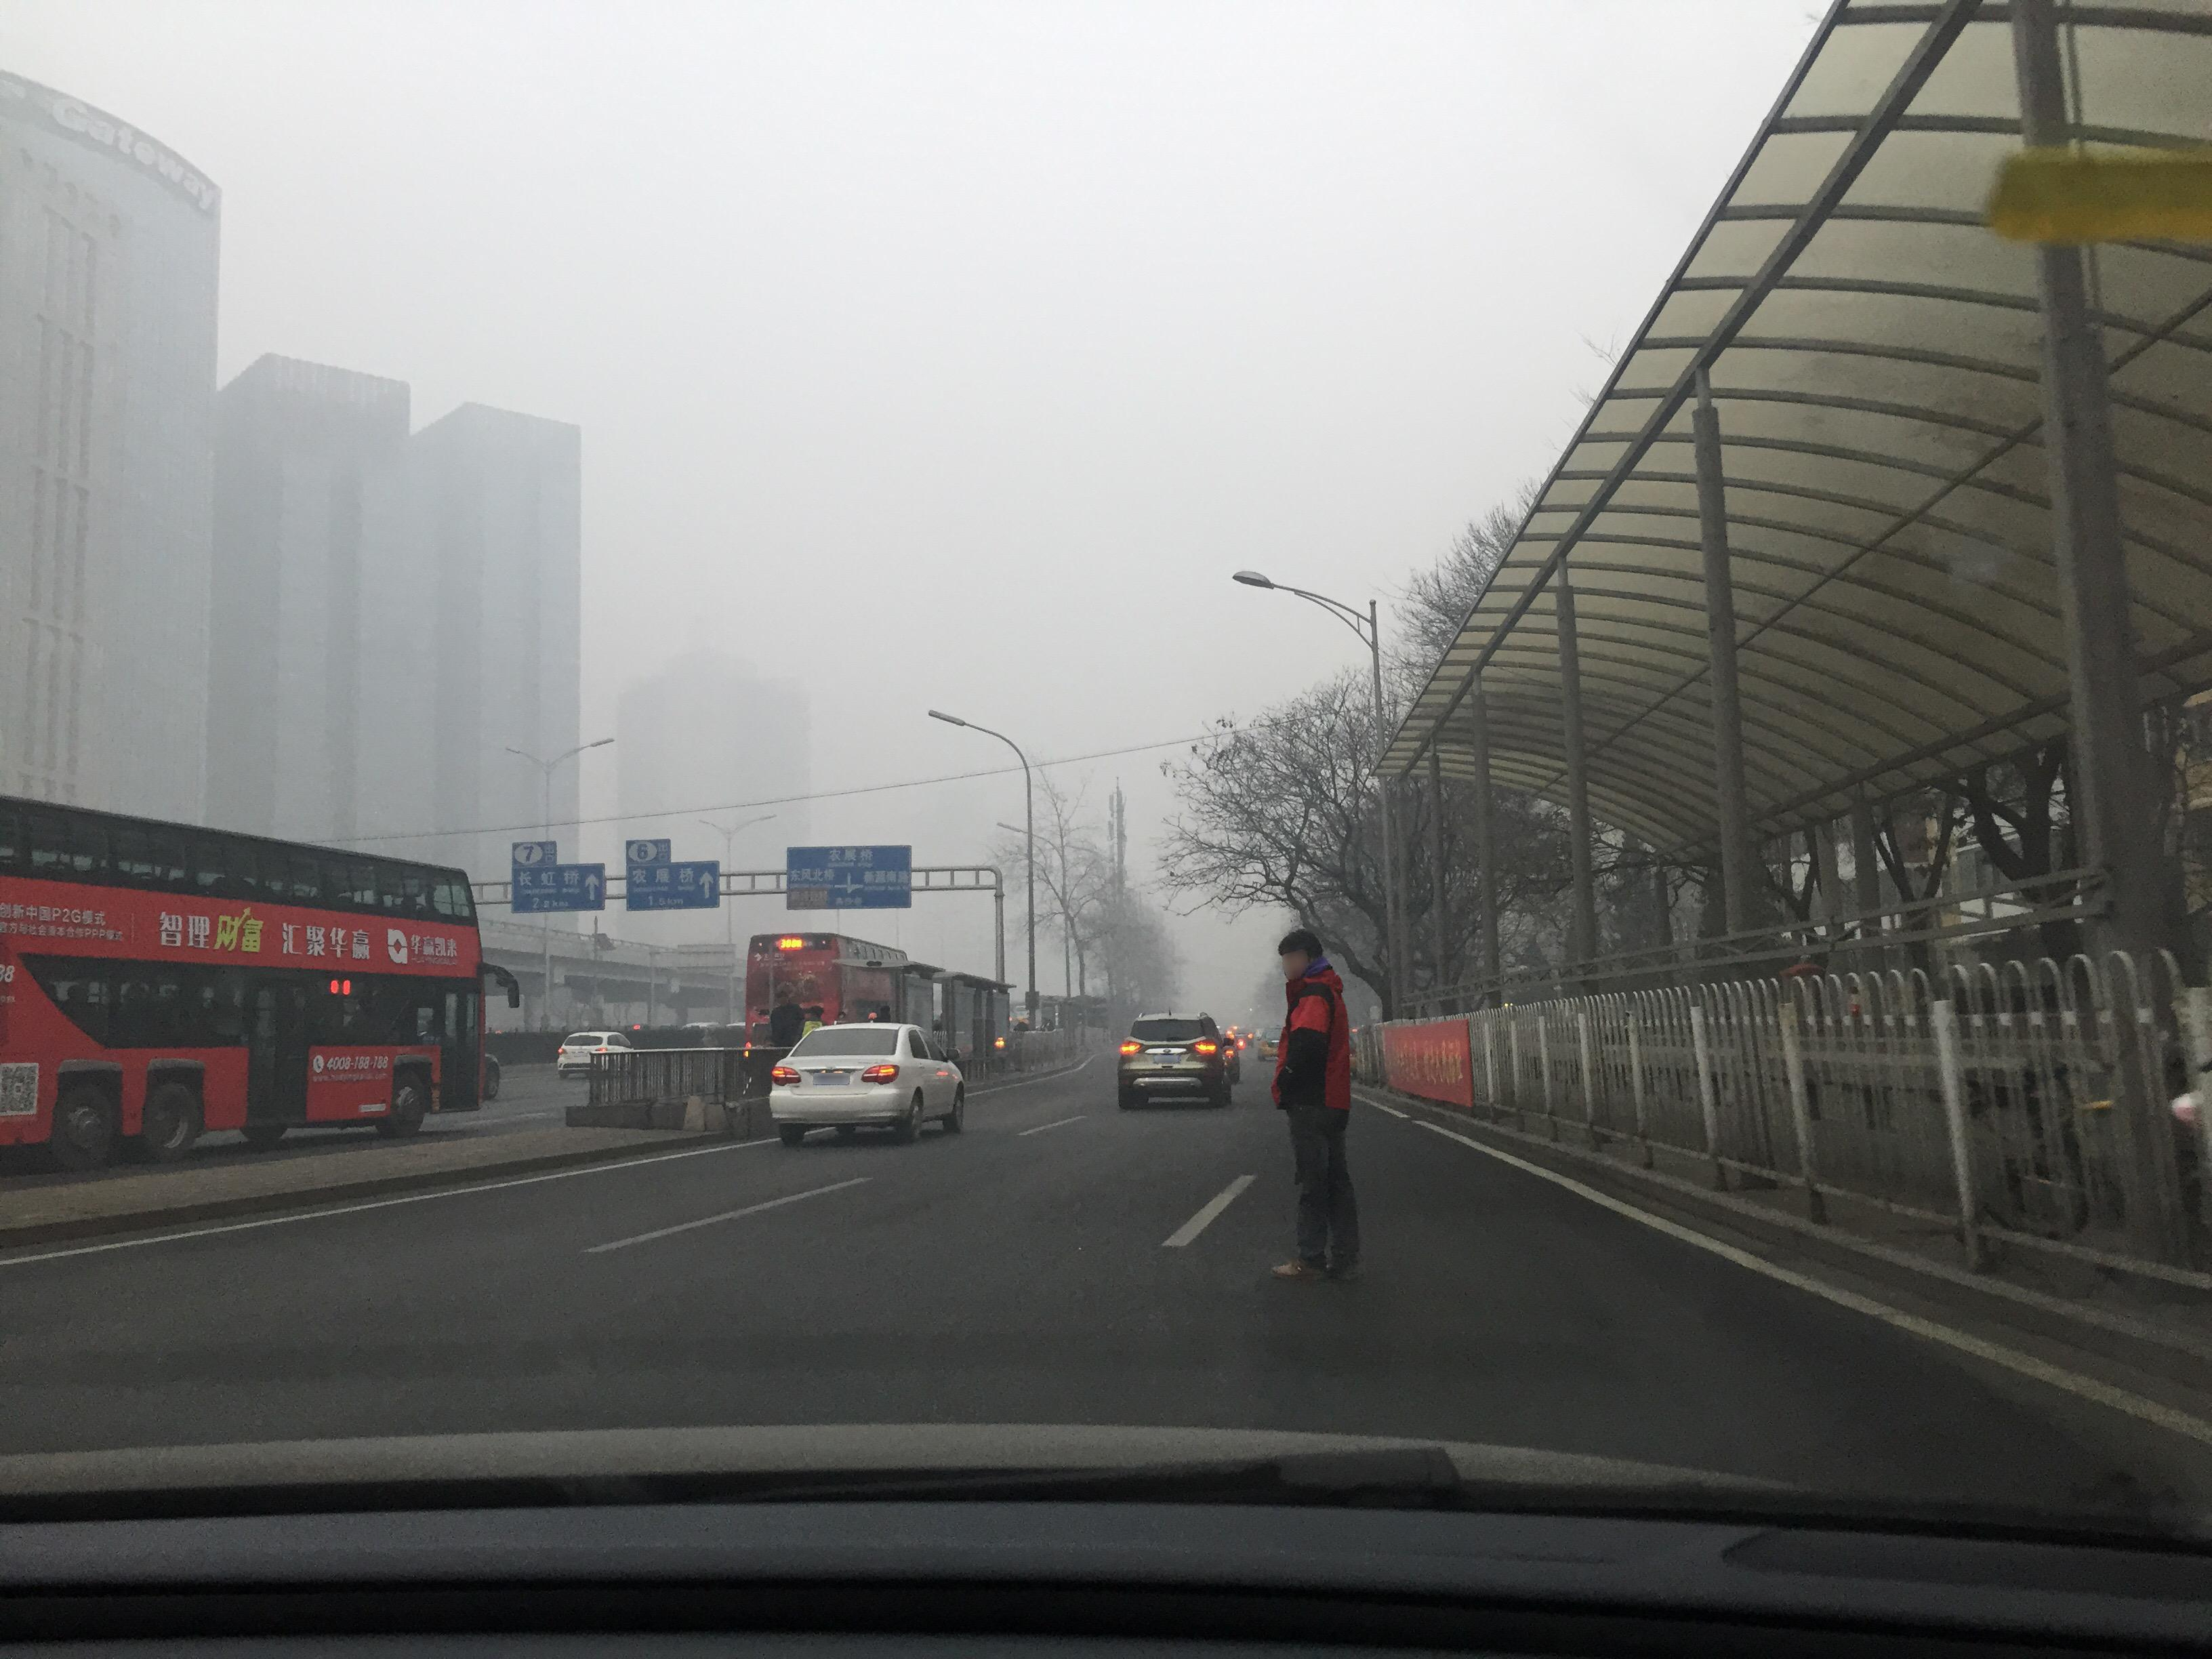vinyl banner: (1374, 1004, 1482, 1108)
